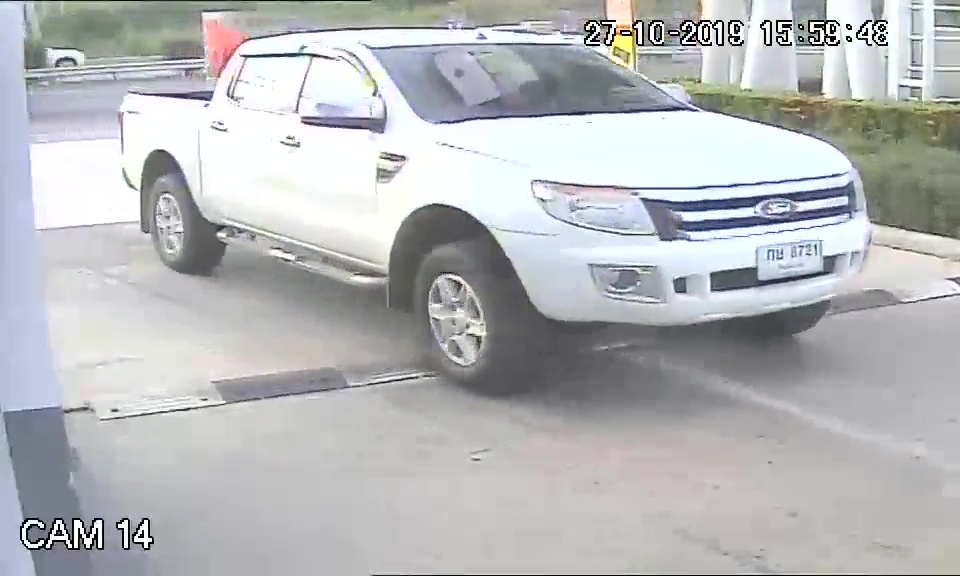pickup: (114, 24, 876, 394)
